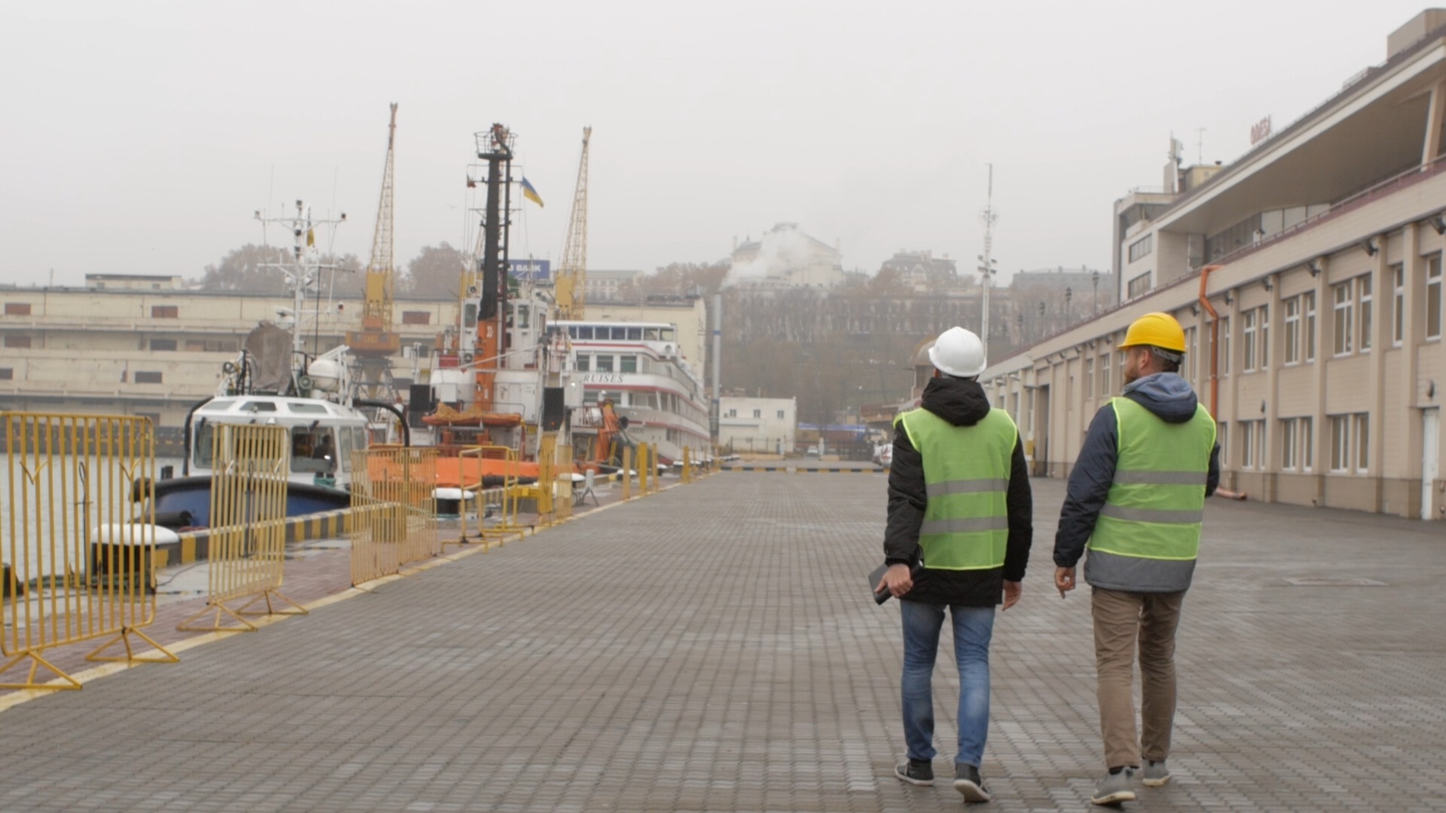safety_helmet: (1116, 311, 1188, 360), (927, 325, 987, 378)
